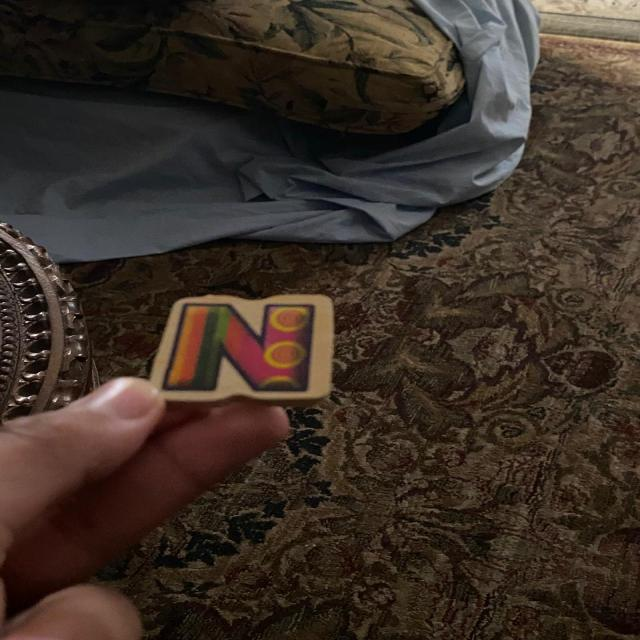N: (151, 295, 333, 405)
